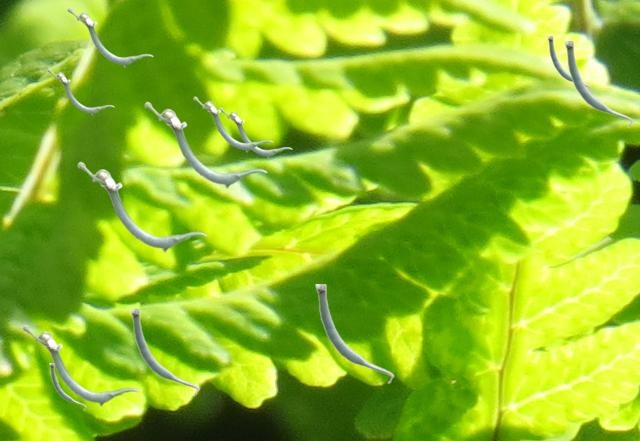french_bean: (77, 161, 206, 251), (144, 101, 266, 187), (22, 324, 138, 405), (315, 284, 393, 383), (130, 309, 198, 395), (564, 41, 632, 127), (67, 7, 152, 66), (193, 96, 272, 151), (219, 107, 291, 157), (47, 68, 113, 114), (547, 36, 590, 90), (49, 363, 85, 409)
